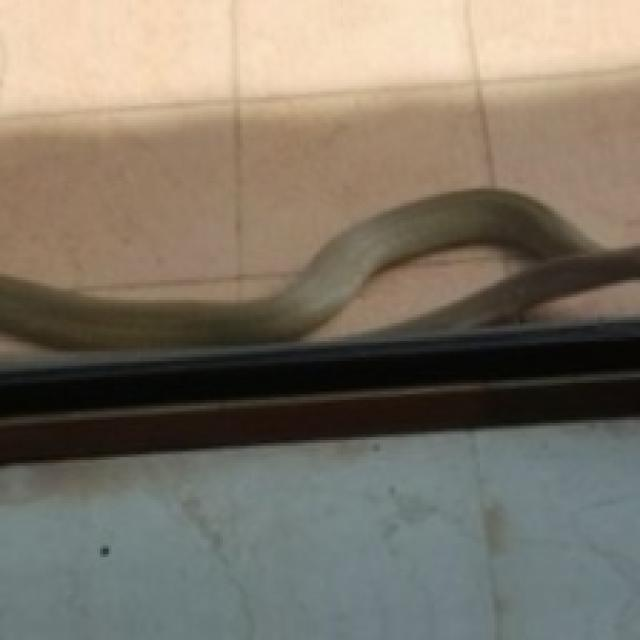king cobra: (0, 189, 637, 346)
